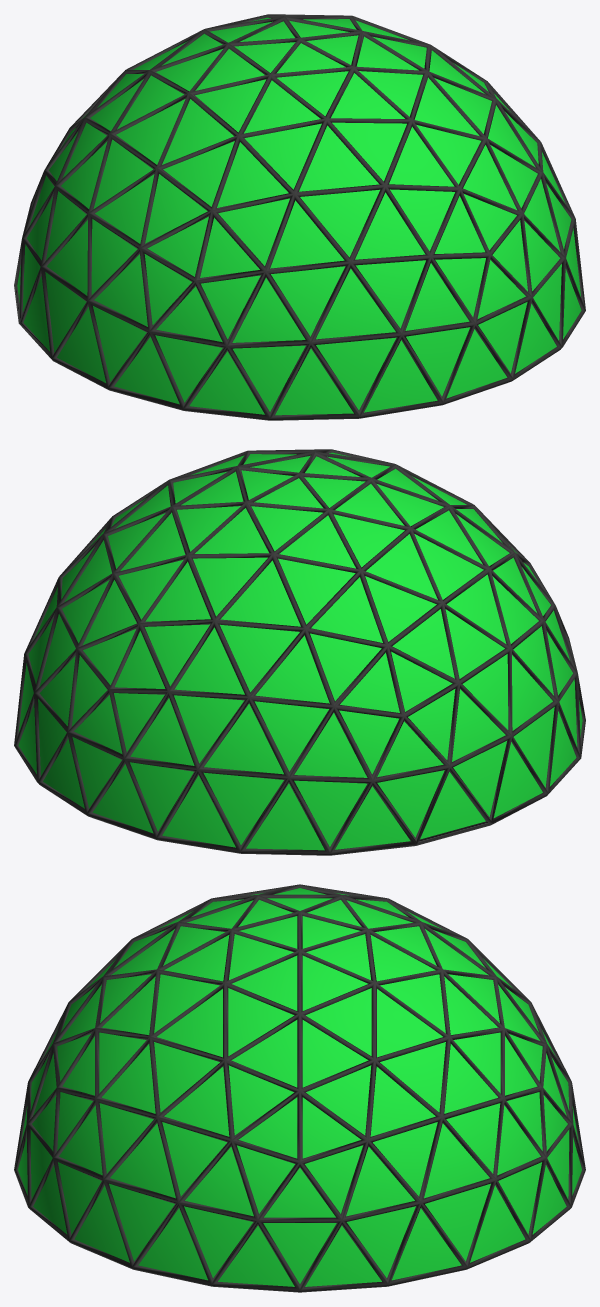
The model's file is Dome.fbx.
The picture shows the model from 3 angles, top to bottom: view 1: azimuth 30°, elevation 25°; view 2: azimuth 150°, elevation 25°; view 3: azimuth 270°, elevation 25°; orthographic projection.
Visible parts, largest first — view 1: Dome_2; view 2: Dome_2; view 3: Dome_2.
Boxes of the visible parts, x1,y1,x2,y2 form: Dome_2: (14, 14, 585, 420); Dome_2: (14, 449, 585, 855); Dome_2: (14, 884, 585, 1292).
Bounding box in the file's own units: 202 × 102 × 202.
